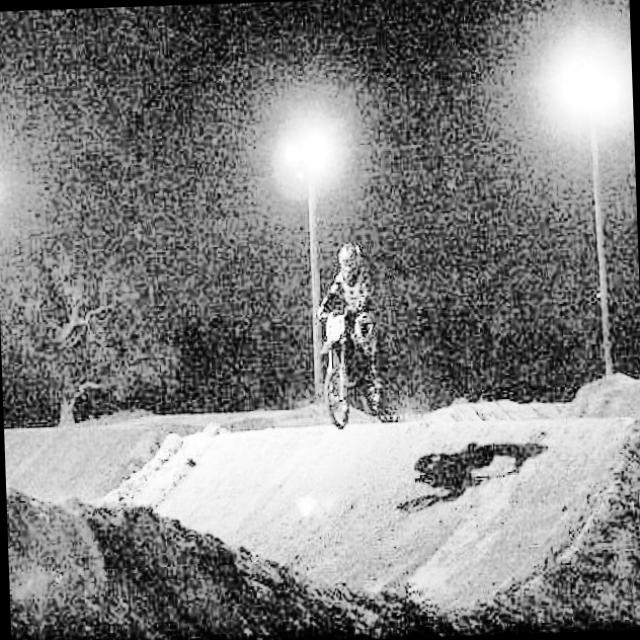Motorcycle: (278, 314, 399, 420)
Person: (320, 225, 371, 372)
